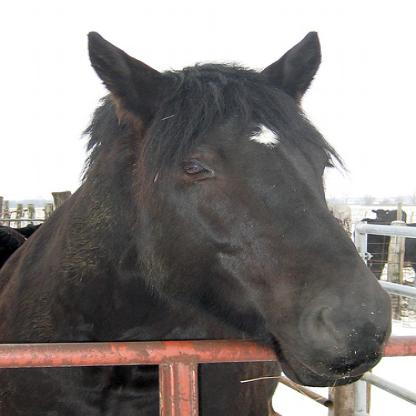horse: (0, 32, 393, 415)
